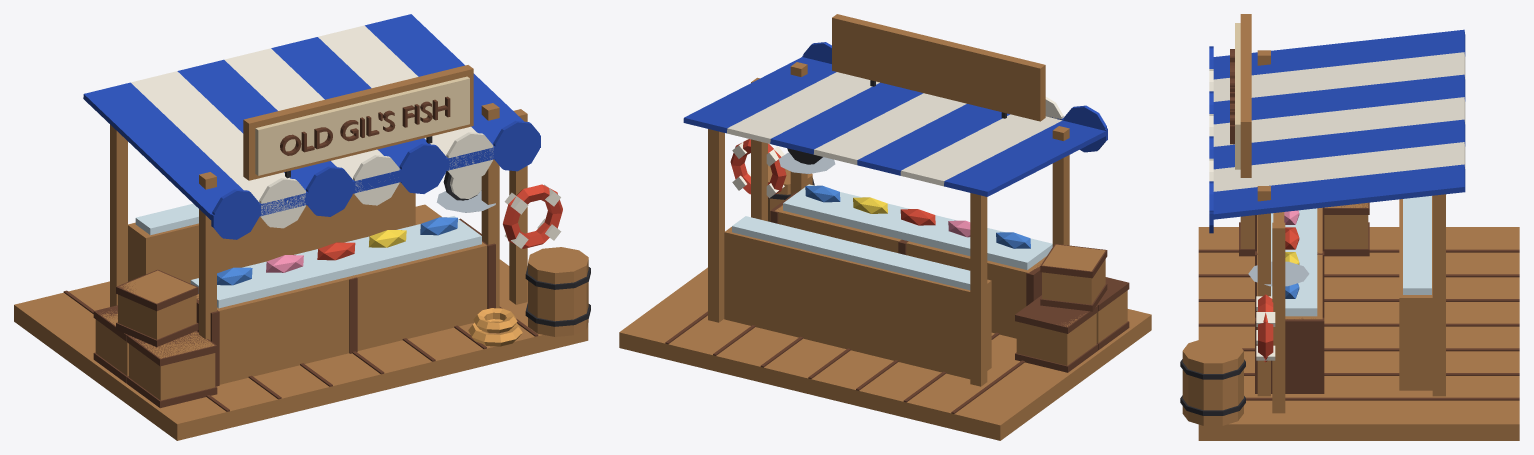
File: gil_stall.glb
The picture shows the model from 3 angles, left to right: view 1: azimuth 30°, elevation 25°; view 2: azimuth 150°, elevation 25°; view 3: azimuth 270°, elevation 25°; orthographic projection. The views are drawn at different scales.
Visible parts, largest first — view 1: gil_stall, gil_stall_front; view 2: gil_stall, gil_stall_front; view 3: gil_stall, gil_stall_front.
Part boxes in pixels (x1,y1,x2,y2): gil_stall: (14, 14, 590, 440); gil_stall_front: (190, 216, 495, 386); gil_stall: (619, 14, 1151, 440); gil_stall_front: (770, 184, 1052, 338); gil_stall: (1180, 14, 1519, 440); gil_stall_front: (1255, 207, 1324, 393).
Size of the model in its own units: 6.54 by 4.15 by 4.65.
